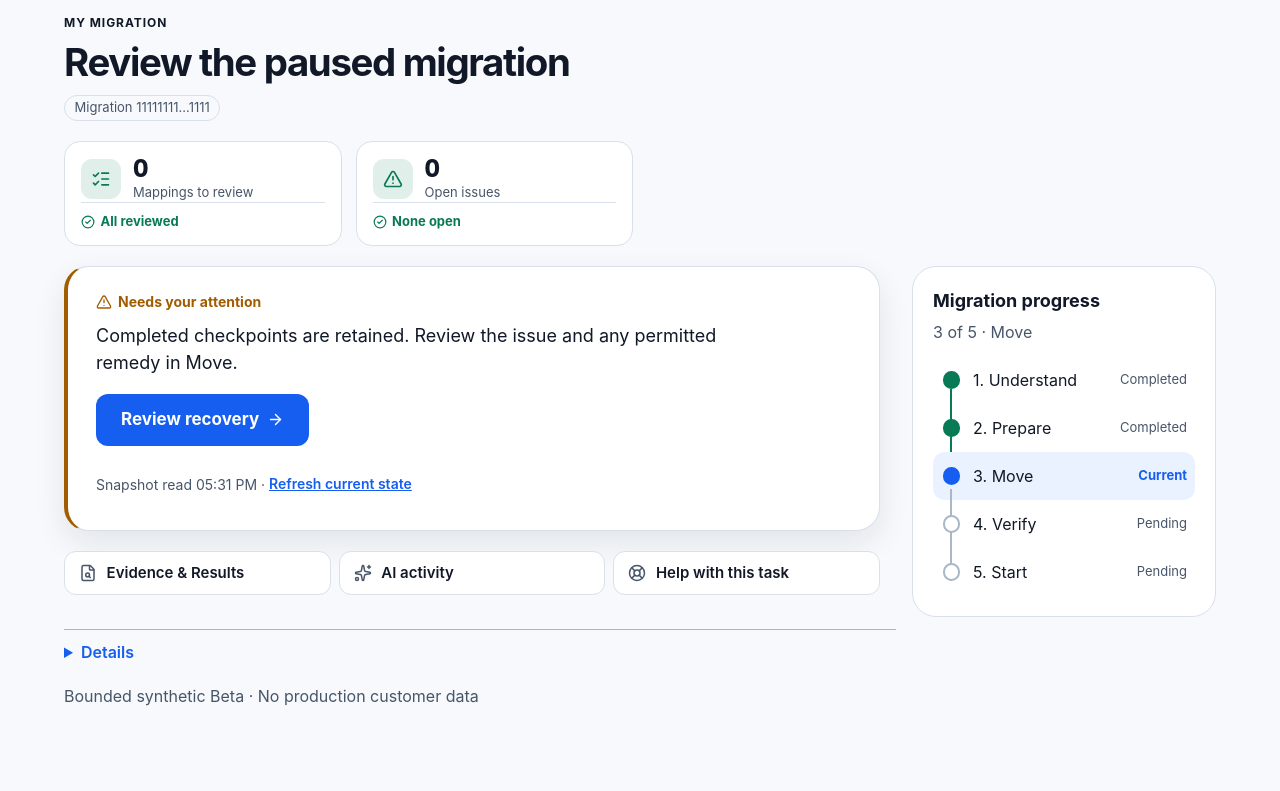
Test: copying the owned link is explicit and handles unavailable clipboard (false)
The width and height of the screenshot is (1280, 791).
Expected: the link "Review recovery" is shown, [96, 394, 309, 446]
Click the heading "Details". click: x=107, y=652
box: [81, 642, 134, 662]
(page scrolled)
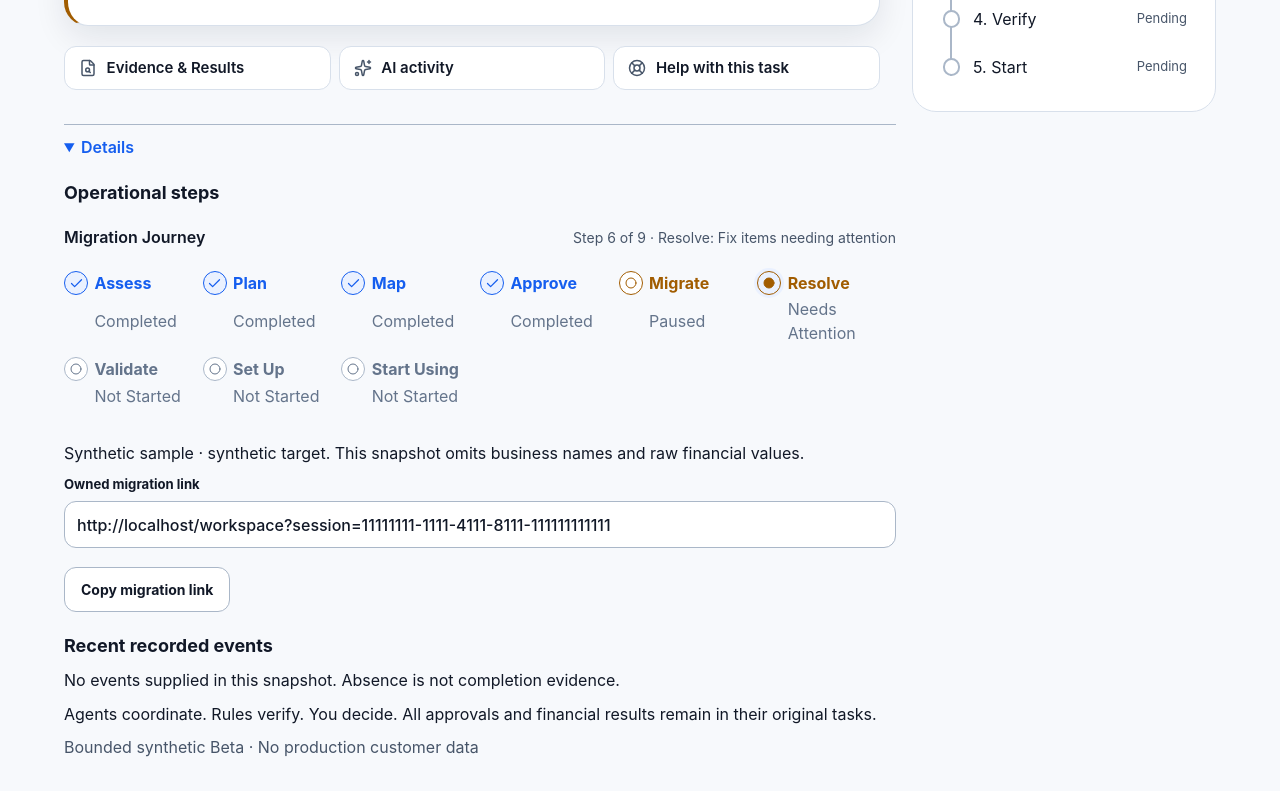
Click the button "Copy migration link". click: x=147, y=590
box: [64, 567, 230, 612]
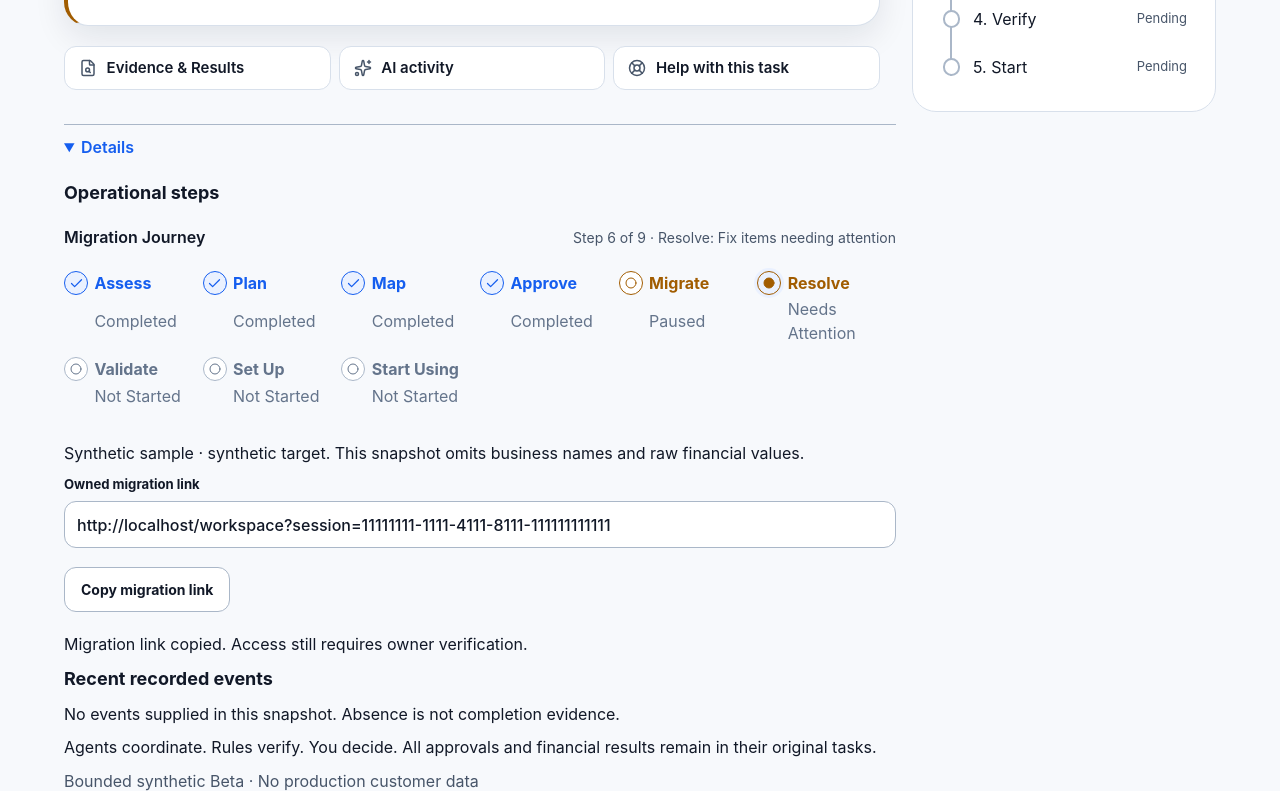
Expected: the text "Migration link copied. Access still requires owner verification." is shown, [64, 634, 528, 654]
